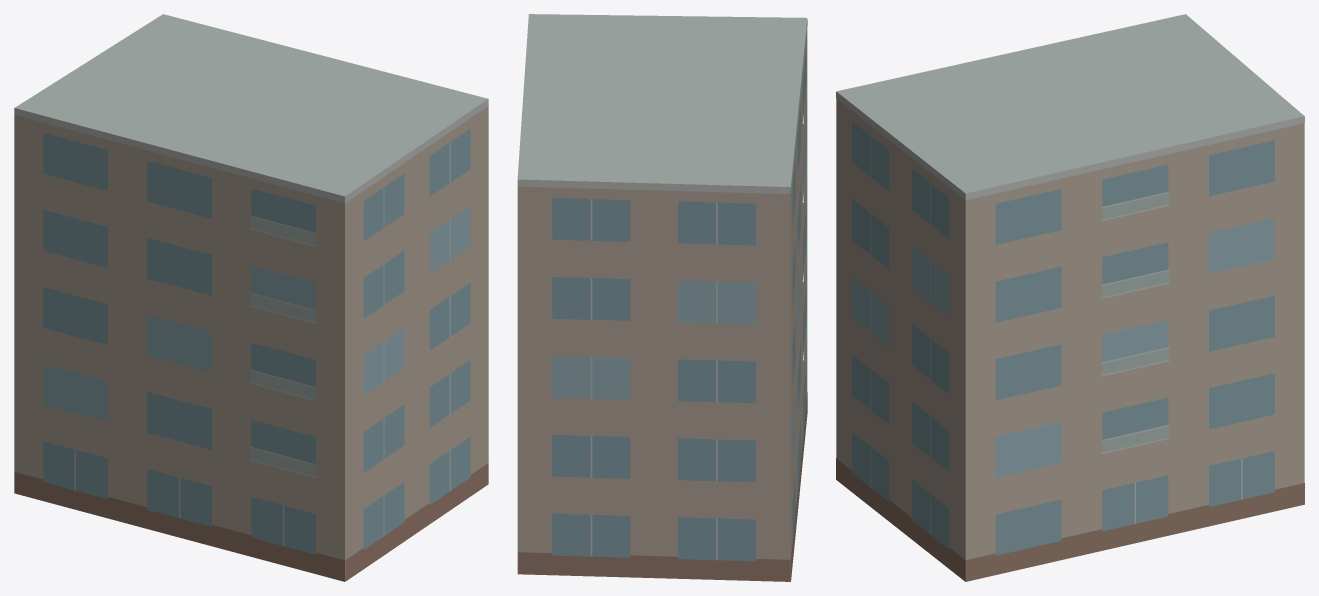
File: survey-upis-32885136.glb
The picture shows the model from 3 angles, left to right: view 1: azimuth 30°, elevation 25°; view 2: azimuth 150°, elevation 25°; view 3: azimuth 270°, elevation 25°; orthographic projection. The views are drawn at different scales.
Visible parts, largest first — view 1: survey-upis-32885136.tmp; view 2: survey-upis-32885136.tmp; view 3: survey-upis-32885136.tmp.
Part boxes in pixels (<box>): survey-upis-32885136.tmp: <box>14,14,488,581</box>; survey-upis-32885136.tmp: <box>517,14,807,581</box>; survey-upis-32885136.tmp: <box>836,14,1304,581</box>.
Size of the model in its own units: 13.59 by 13.7 by 14.99.
